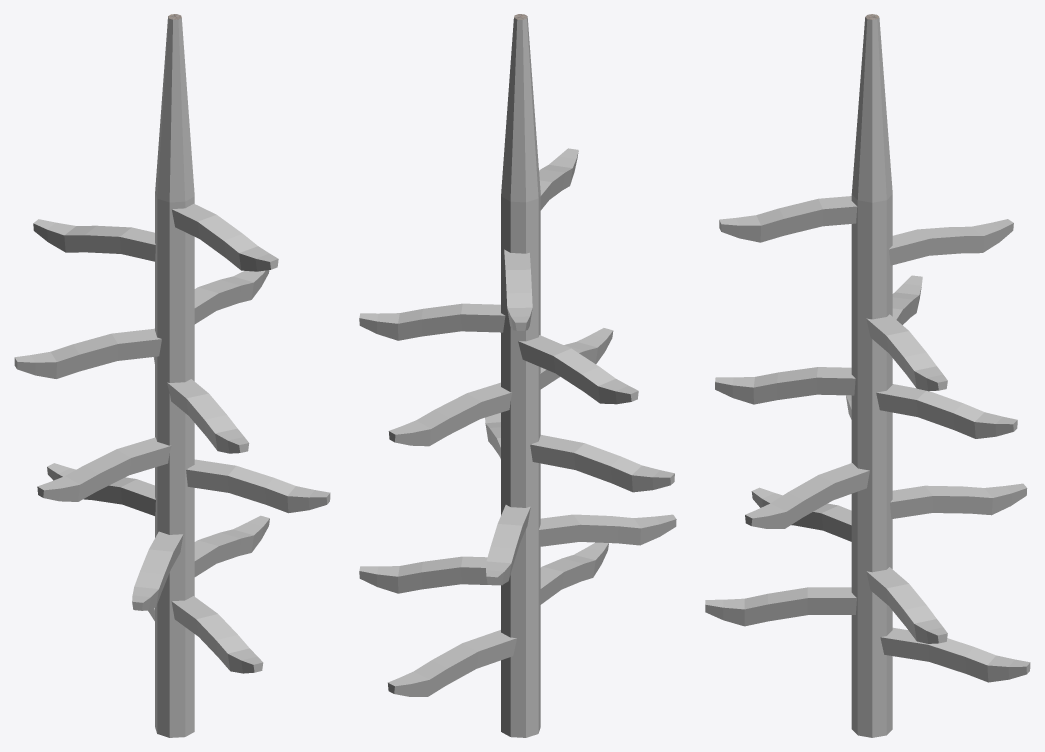
Rendered from tree.fbx.
3 views of the same model, side by side, from view 1: azimuth 30°, elevation 25°; view 2: azimuth 150°, elevation 25°; view 3: azimuth 270°, elevation 25° (orthographic).
Parts seen in each view (by area): view 1: tree; view 2: tree; view 3: tree.
Part boxes in pixels (bbox=[...]): tree: bbox=[14, 14, 330, 737]; tree: bbox=[359, 14, 676, 737]; tree: bbox=[705, 14, 1030, 737].
Bounding box in the file's own units: 597 × 1499 × 620.
